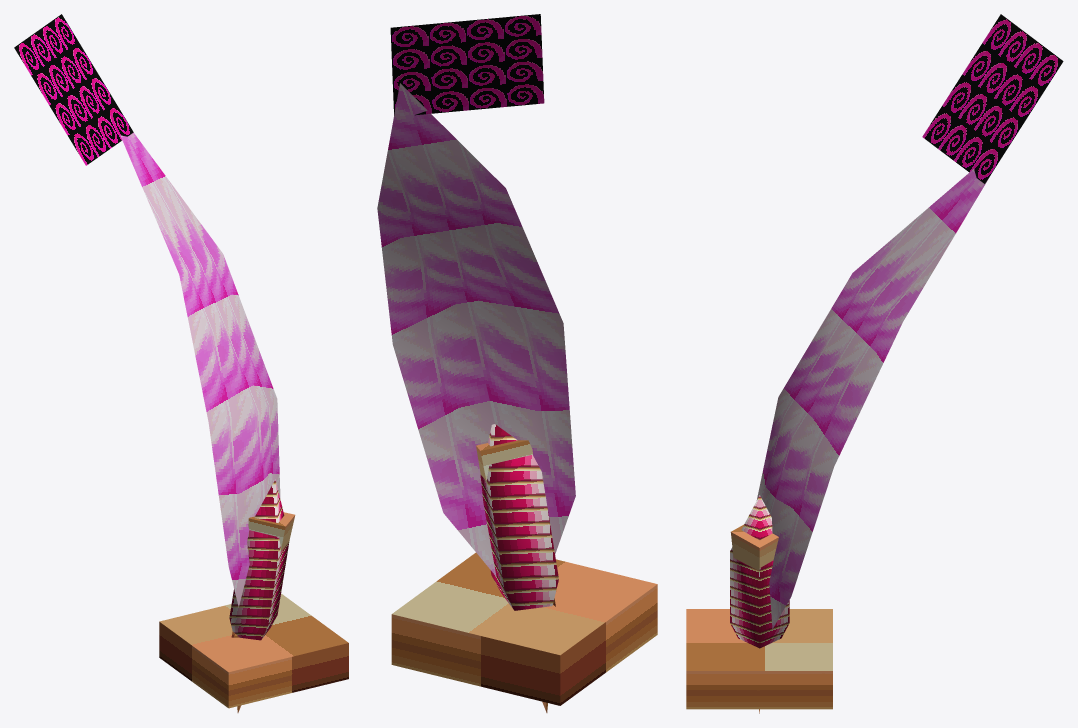
File: 5652ucc_pen_r.gltf
The picture shows the model from 3 angles, left to right: view 1: azimuth 30°, elevation 25°; view 2: azimuth 150°, elevation 25°; view 3: azimuth 270°, elevation 25°; orthographic projection. The views are drawn at different scales.
Parts seen in each view (by area): view 1: 5652ucc_pen_r; view 2: 5652ucc_pen_r; view 3: 5652ucc_pen_r.
Part boxes in pixels (x1=…): 5652ucc_pen_r: x1=14, y1=14, x2=348, y2=712; 5652ucc_pen_r: x1=377, y1=14, x2=657, y2=712; 5652ucc_pen_r: x1=686, y1=14, x2=1063, y2=713.
Bounding box in the file's own units: 0.272 × 0.8521 × 0.4526.
5 materials, 5 textured.
